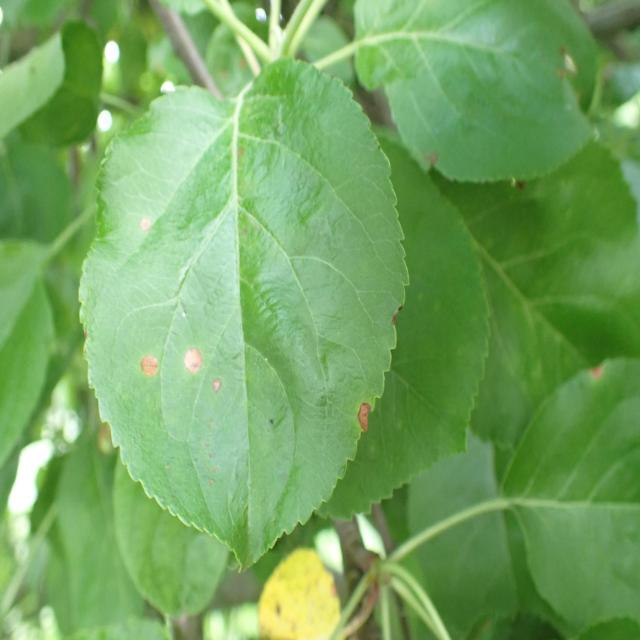Black Rot: (118, 318, 173, 406), (341, 396, 383, 452), (204, 370, 238, 428), (181, 330, 201, 395)
